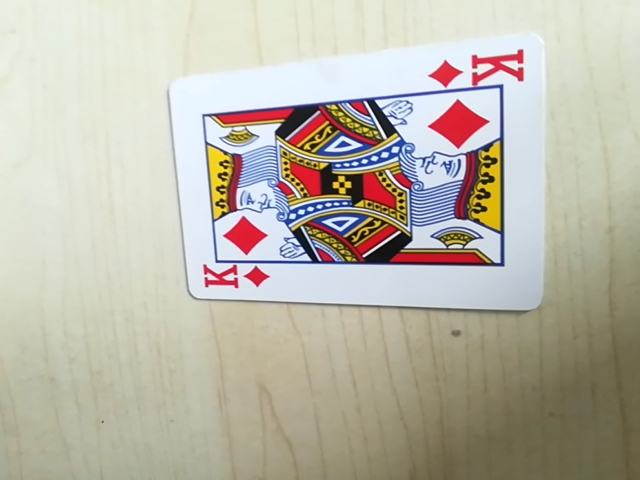fk k: (430, 47, 528, 93), (195, 260, 270, 296)
